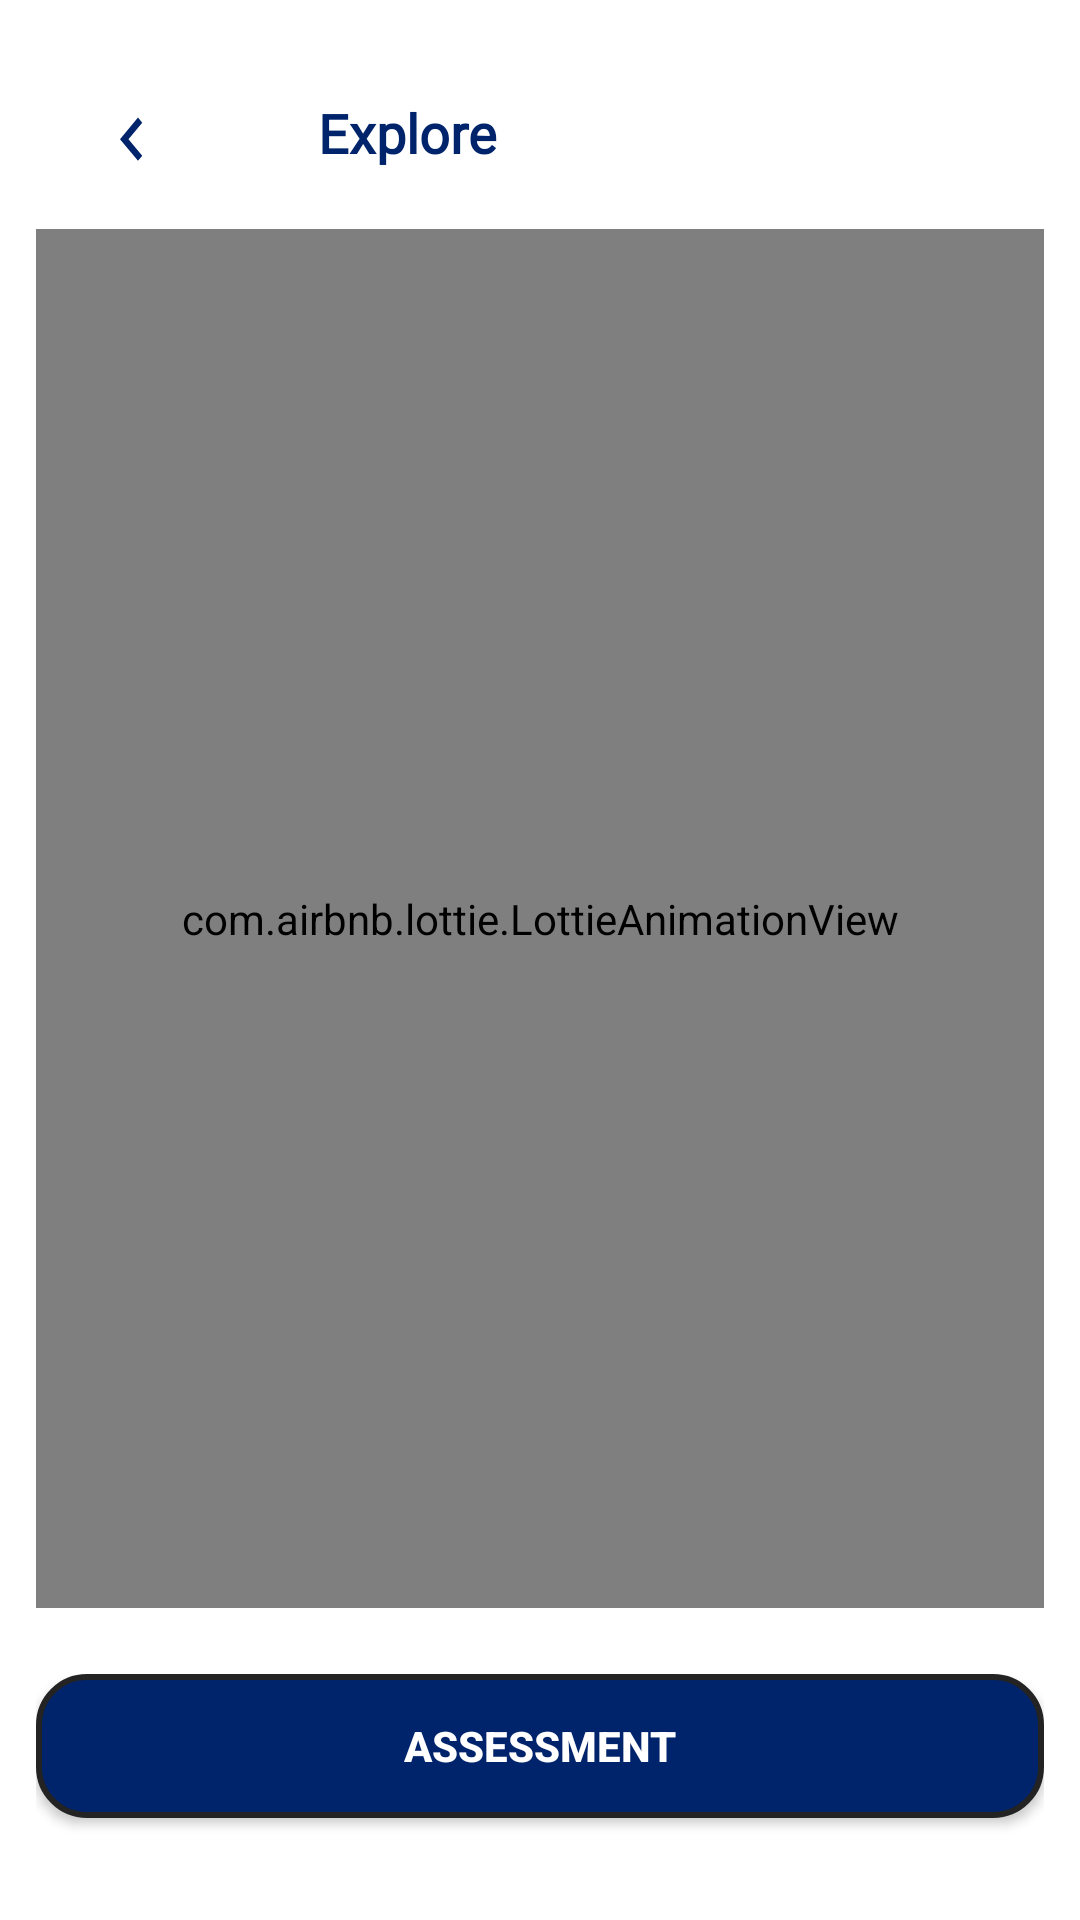

Point at icon controls on the screen. Image size 1080w x 1920h, points as [x,y].
before: [131,139]
